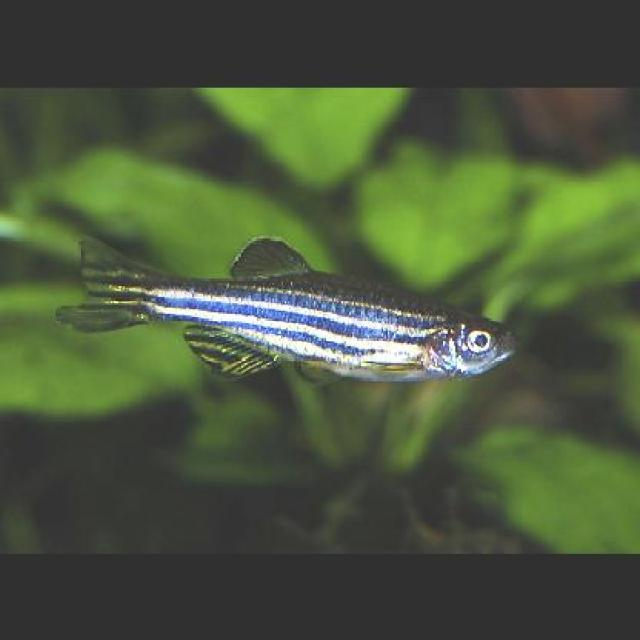ZebraFish: (53, 232, 519, 381)
